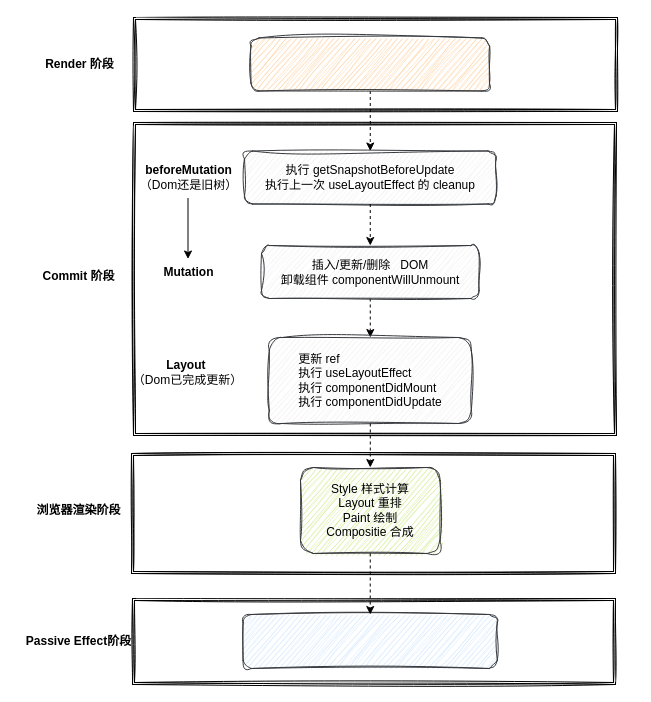
Some shapes in this 651 by 702 pixel diagram are drawn without their labels. The centre of each missing label's shape, as x and y in pixels:
异步执行 useEffect 的 cleanup + 回调函数: [369,641]
执行函数组件 、class render 计算新 state 和 JSX，登记 effect: [370,64]
